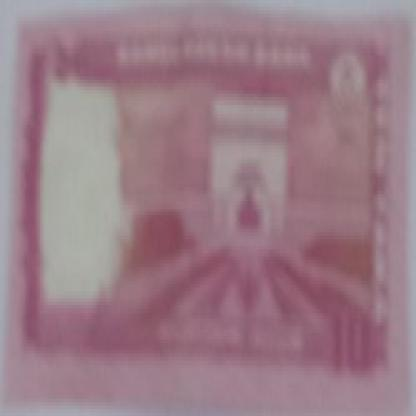Ten Taka: (323, 288, 376, 378), (45, 28, 100, 97)
